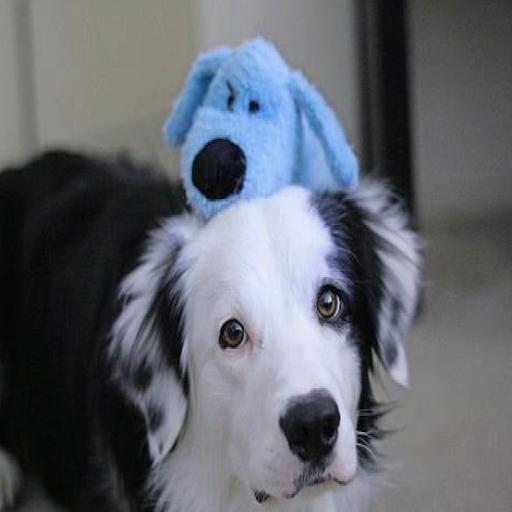dog_face: (147, 193, 417, 492)
